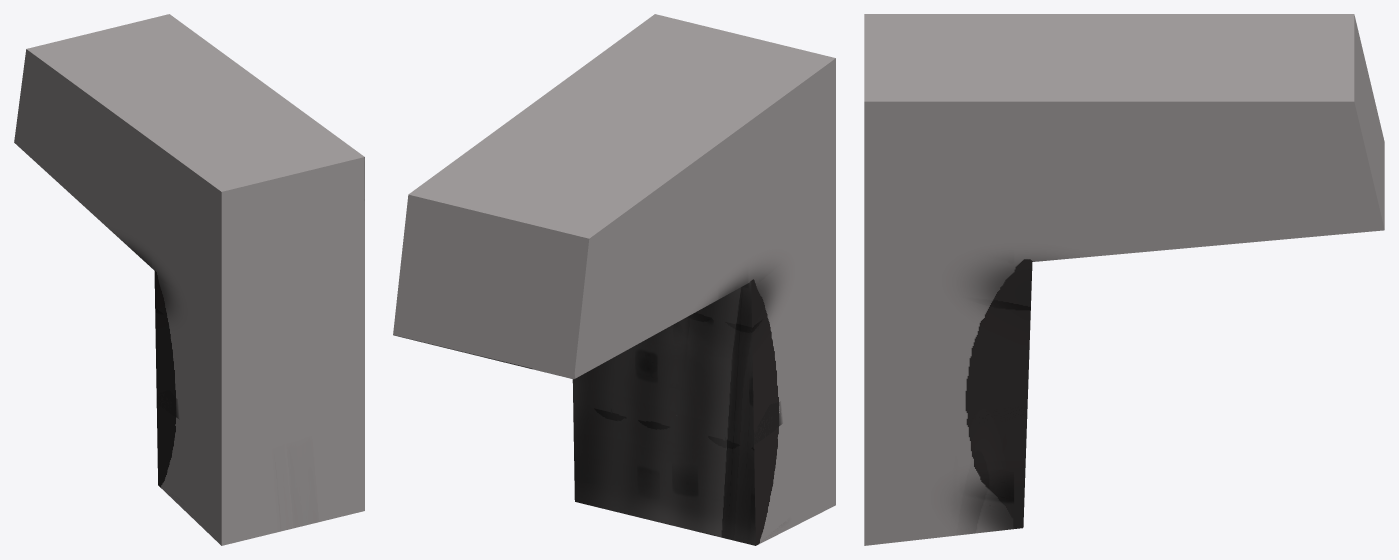
The model's file is machinegun.dae.
3 views of the same model, side by side, from view 1: azimuth 30°, elevation 25°; view 2: azimuth 150°, elevation 25°; view 3: azimuth 270°, elevation 25° (orthographic). The views are drawn at different scales.
Visible parts, largest first — view 1: Cube; view 2: Cube; view 3: Cube.
Part boxes in pixels (bbox=[...]): Cube: bbox=[14, 14, 364, 545]; Cube: bbox=[393, 14, 835, 545]; Cube: bbox=[864, 14, 1384, 545].
Bounding box in the file's own units: 0.847 × 2.12 × 2.
1 material, 1 textured.
